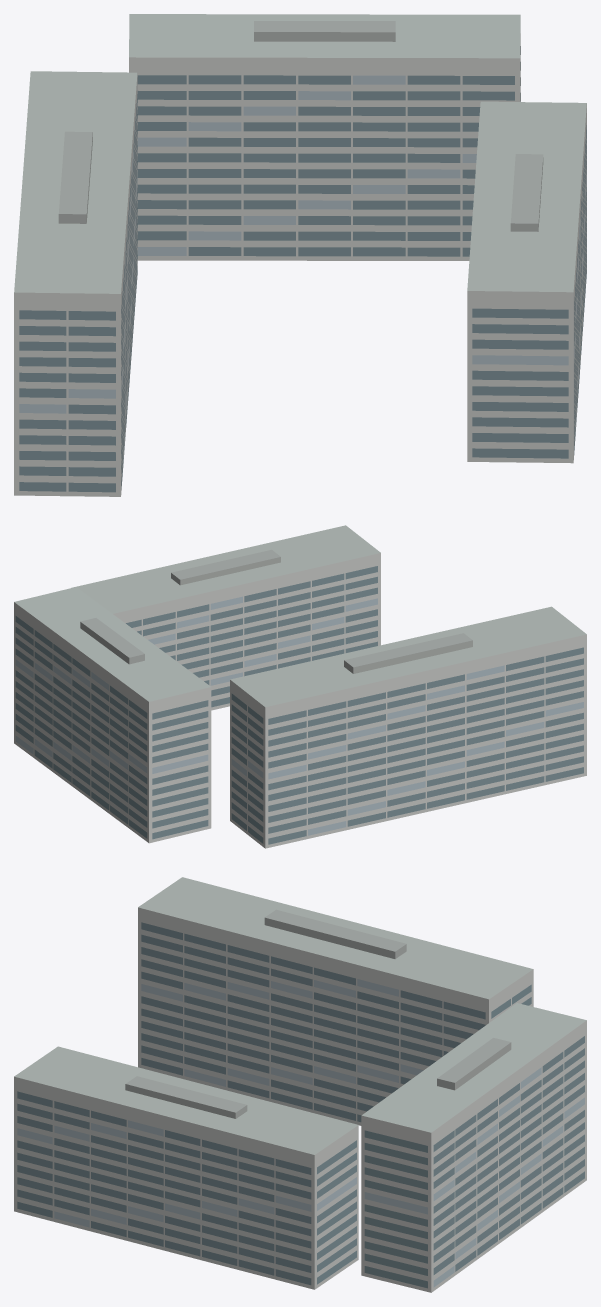
File: apt-a15072001.glb
3 renders of one model, top to bottom at view 1: azimuth 30°, elevation 25°; view 2: azimuth 150°, elevation 25°; view 3: azimuth 270°, elevation 25°, orthographic. The views are drawn at different scales.
Visible parts, largest first — view 1: apt-a15072001; view 2: apt-a15072001; view 3: apt-a15072001.
Part boxes in pixels (x1=…): apt-a15072001: x1=14, y1=14, x2=586, y2=496; apt-a15072001: x1=14, y1=525, x2=586, y2=848; apt-a15072001: x1=14, y1=877, x2=586, y2=1292.
Size of the model in its own units: 124 by 38 by 118.
